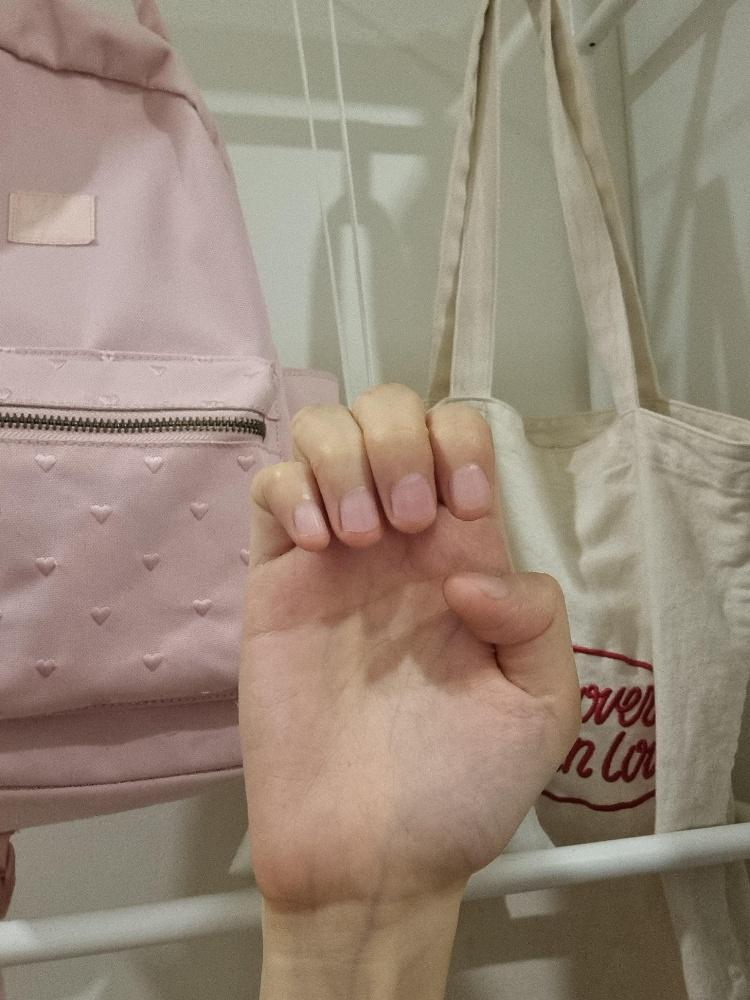e: (235, 379, 581, 921)
